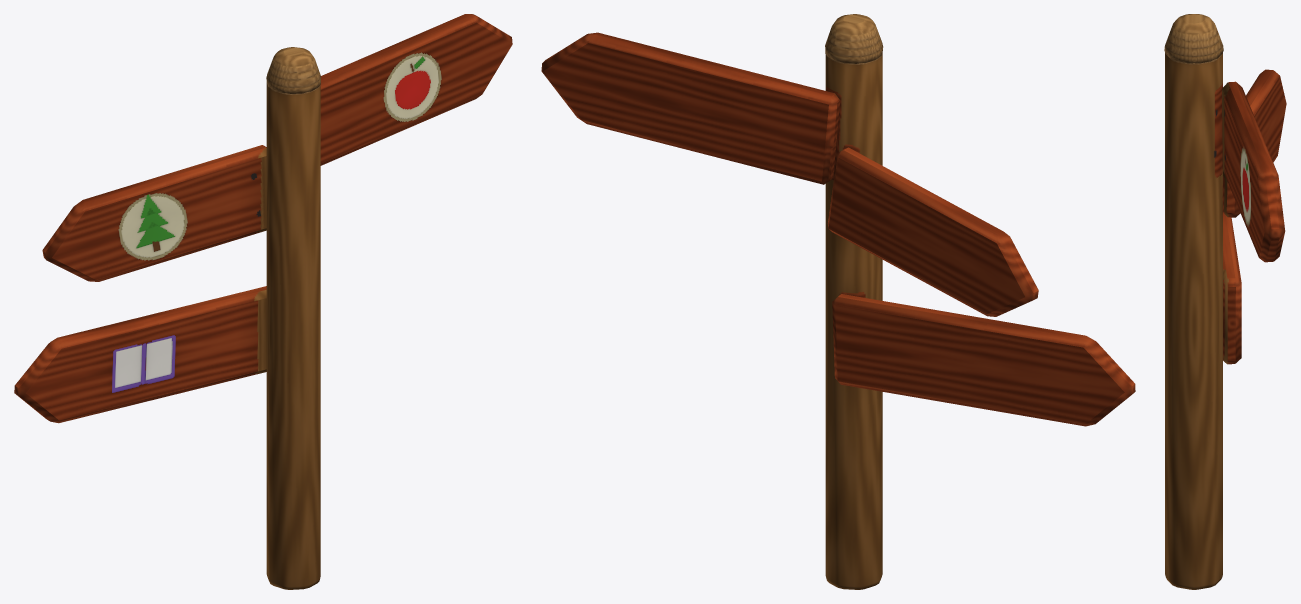
File: signpost.glb
The picture shows the model from 3 angles, left to right: view 1: azimuth 30°, elevation 25°; view 2: azimuth 150°, elevation 25°; view 3: azimuth 270°, elevation 25°; orthographic projection. The views are drawn at different scales.
Parts seen in each view (by area): view 1: signpost; view 2: signpost; view 3: signpost.
Boxes of the visible parts, left/top/right/bottom form: signpost: left=14, top=14, right=512, bottom=589; signpost: left=541, top=14, right=1135, bottom=589; signpost: left=1164, top=14, right=1286, bottom=589.
Size of the model in its own units: 2.01 by 1.93 by 0.3811.
1 material, 1 textured.
